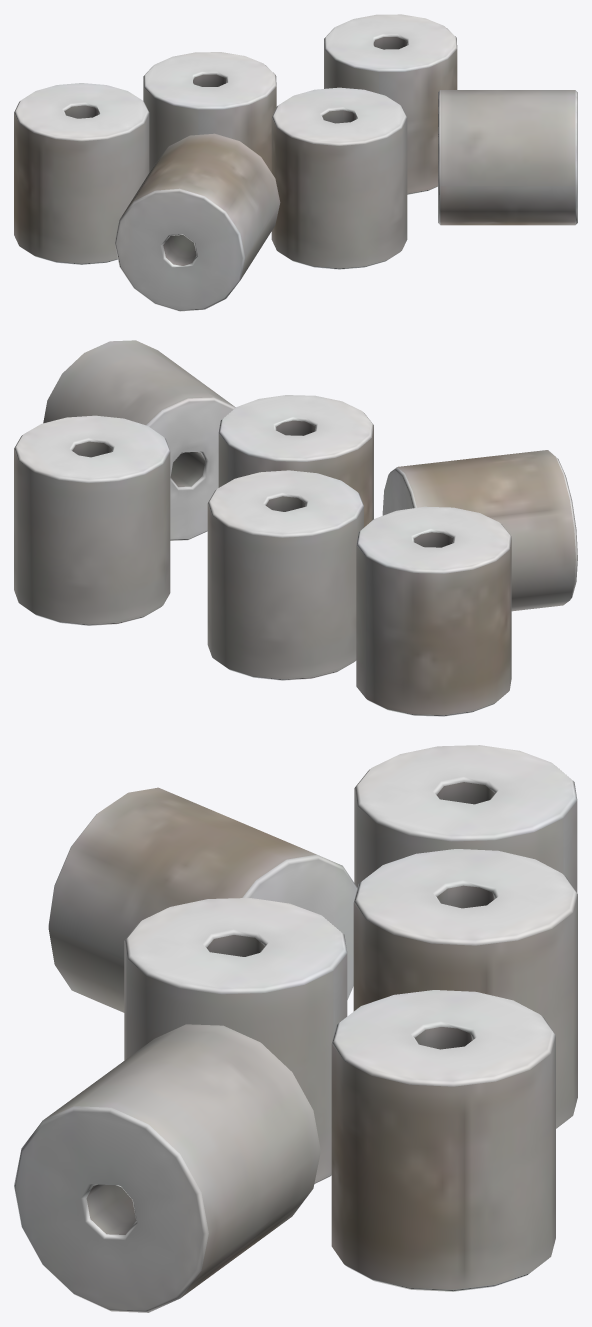
File: toilet_paper_cluster_a.glb
3 views of the same model, one above another, from view 1: azimuth 30°, elevation 25°; view 2: azimuth 150°, elevation 25°; view 3: azimuth 270°, elevation 25° (orthographic). The views are drawn at different scales.
Parts seen in each view (by area): view 1: toilet_paper_cluster_a; view 2: toilet_paper_cluster_a; view 3: toilet_paper_cluster_a.
Boxes of the visible parts, x1,y1,x2,y2 form: toilet_paper_cluster_a: (14, 14, 577, 311); toilet_paper_cluster_a: (14, 340, 577, 716); toilet_paper_cluster_a: (14, 745, 577, 1312).
Size of the model in its own units: 0.6219 by 0.1587 by 0.3848.
1 material, 1 textured.
